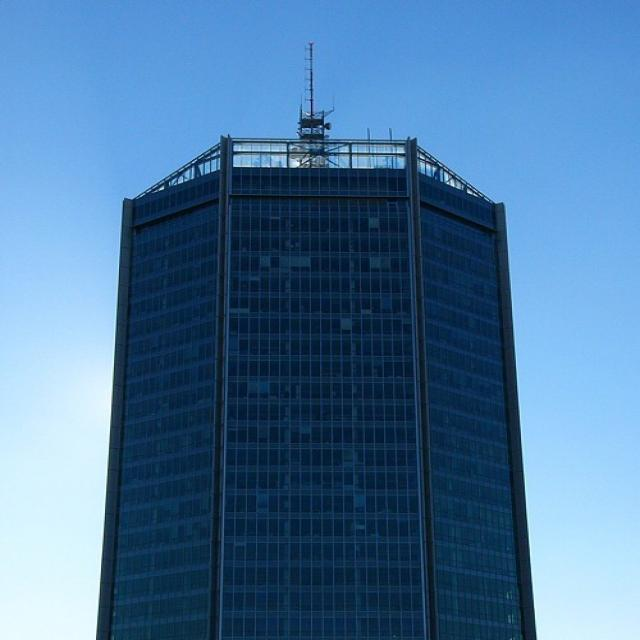building: (96, 42, 538, 640)
